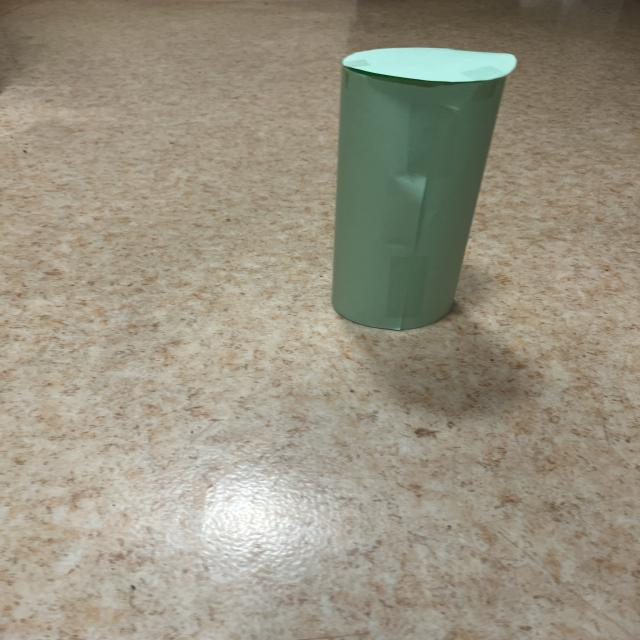meta: (332, 48, 516, 330)
